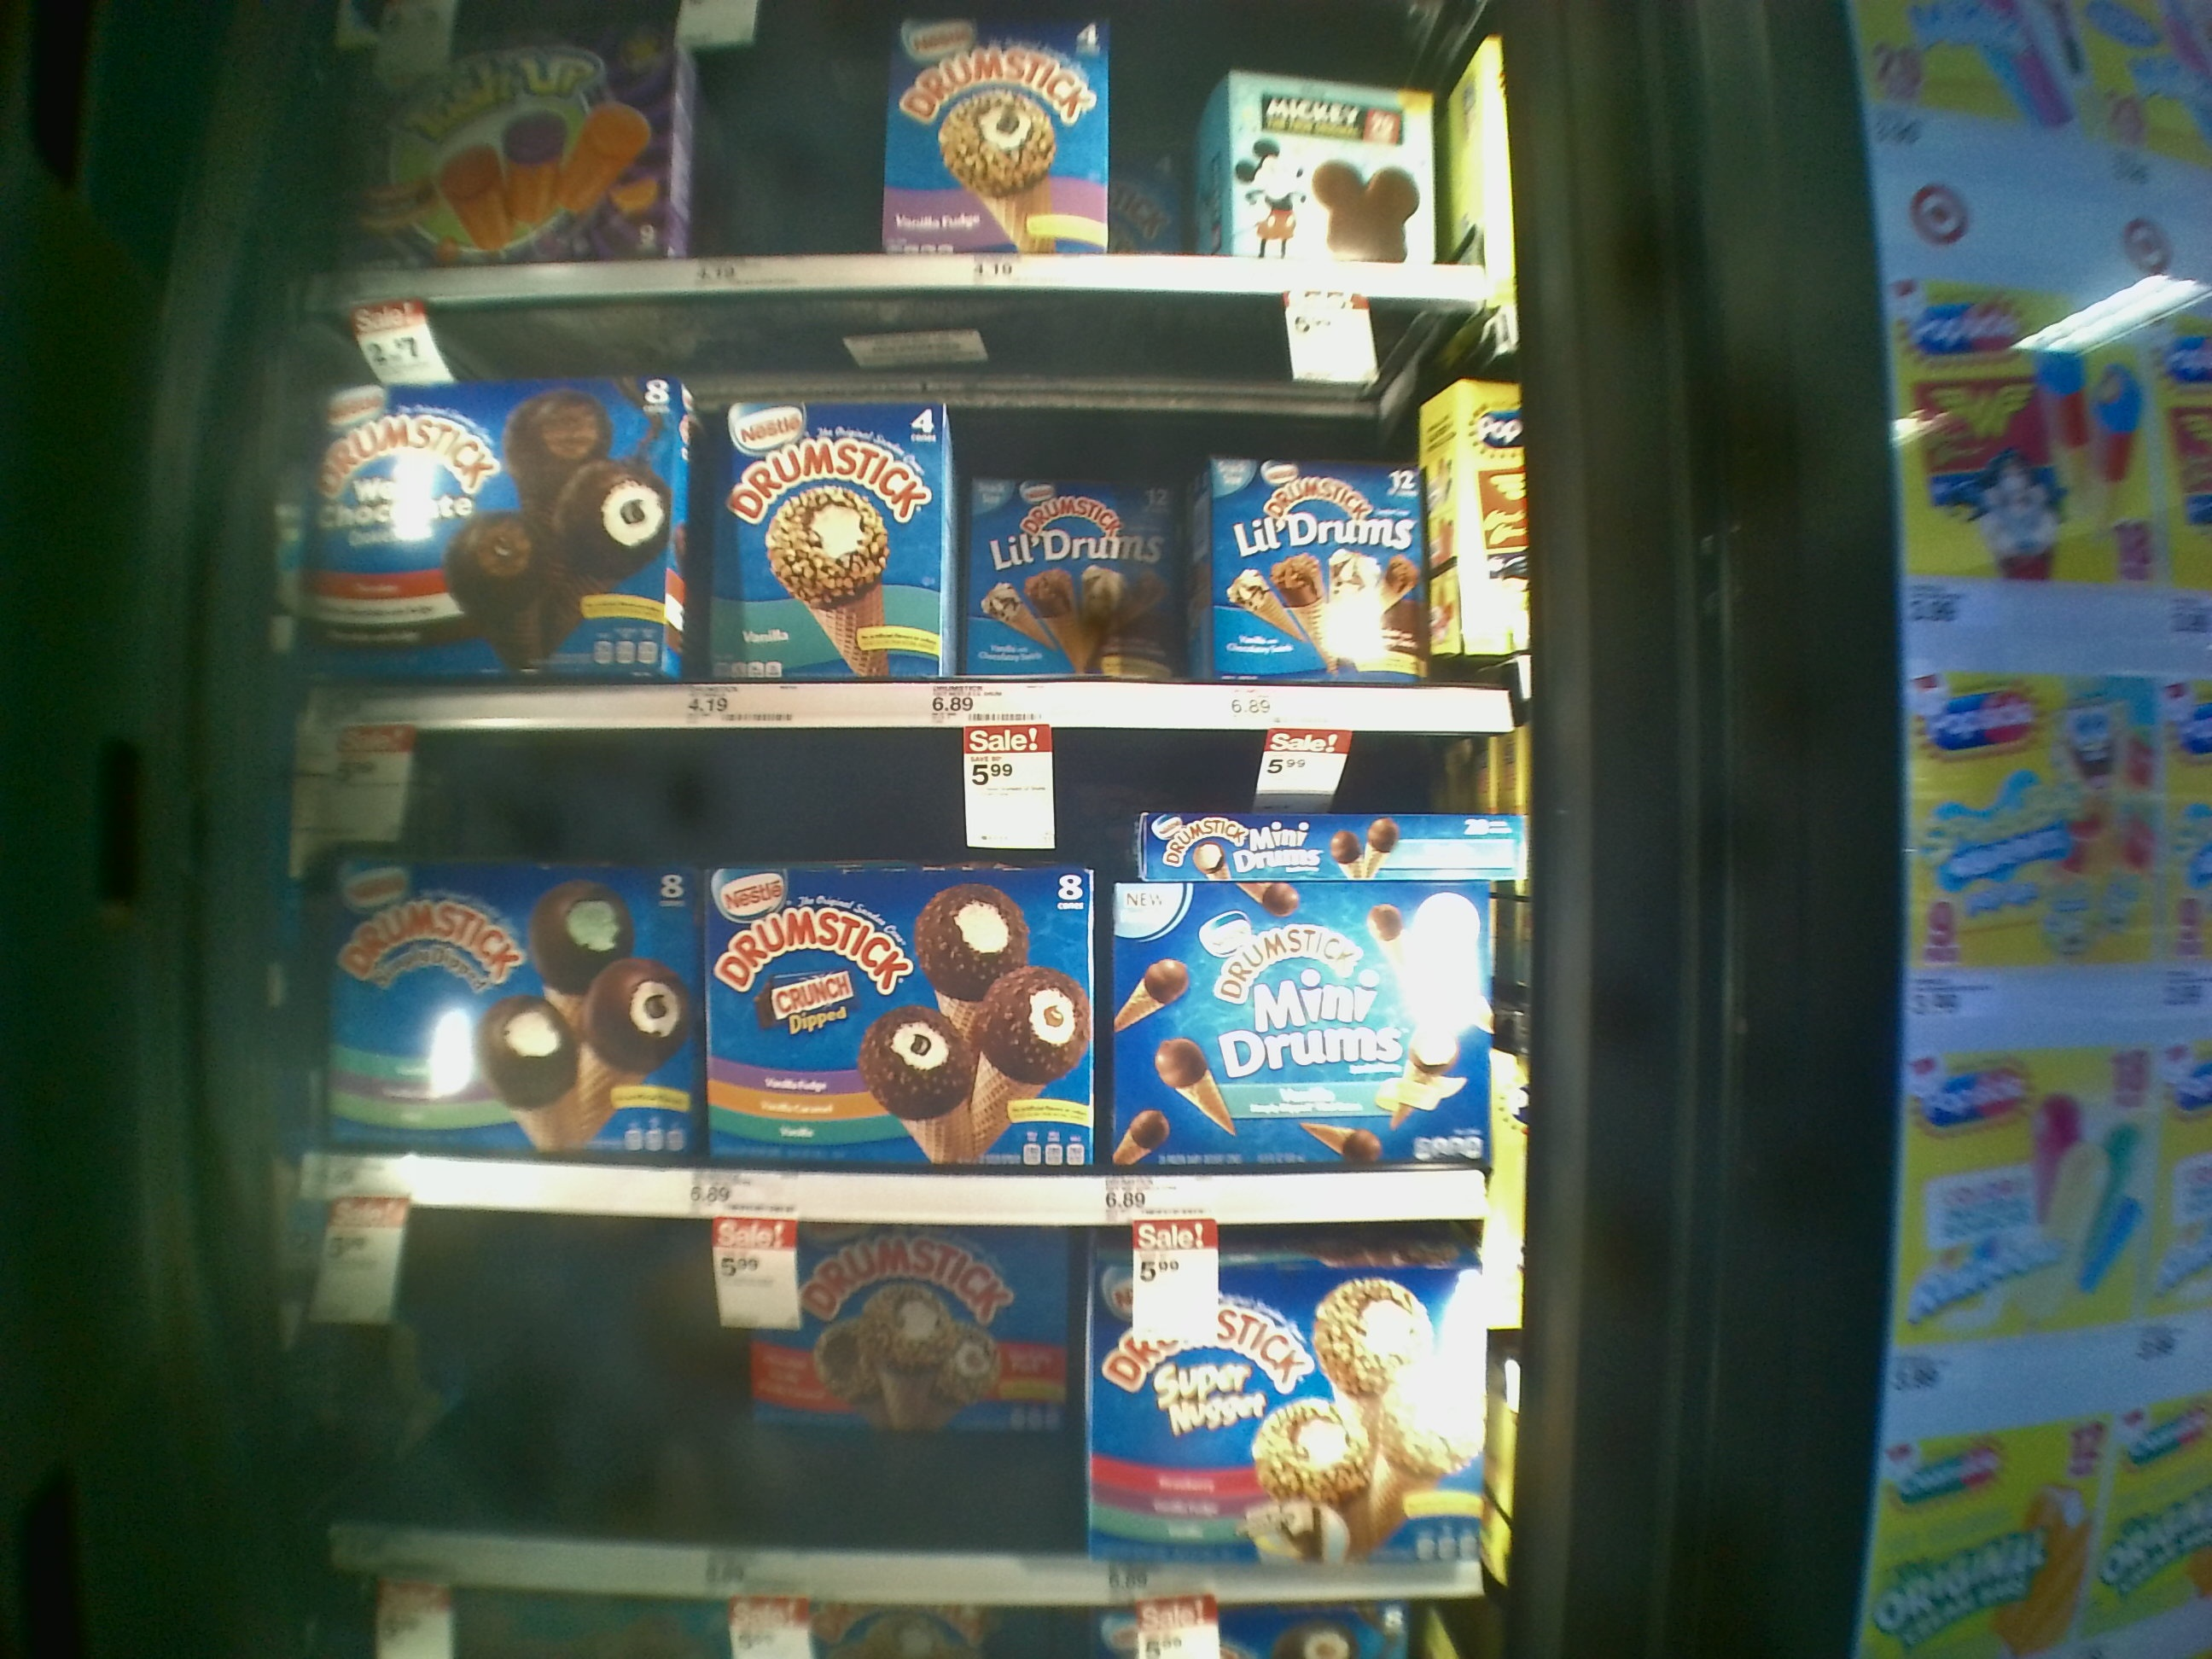shelf: (279, 737, 1515, 1220), (280, 305, 1531, 728), (270, 1218, 1536, 1612)
